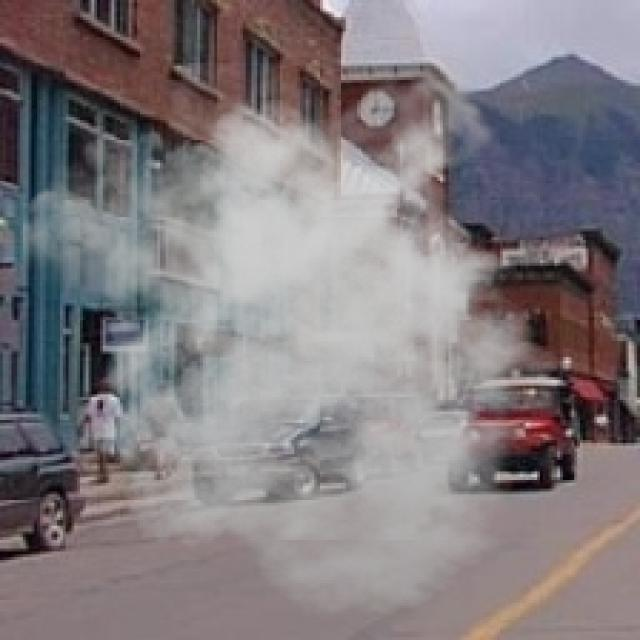smoke: (23, 63, 591, 617)
